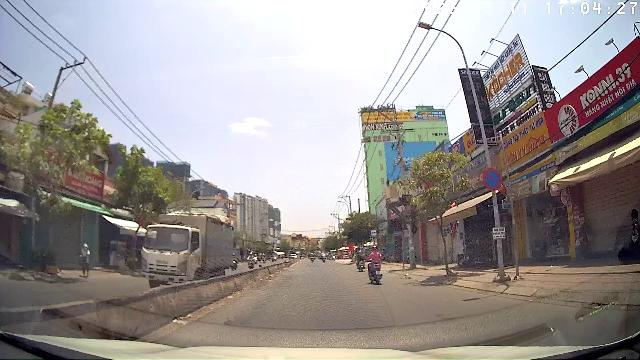131a-cam-do-xe: (482, 167, 502, 191)
